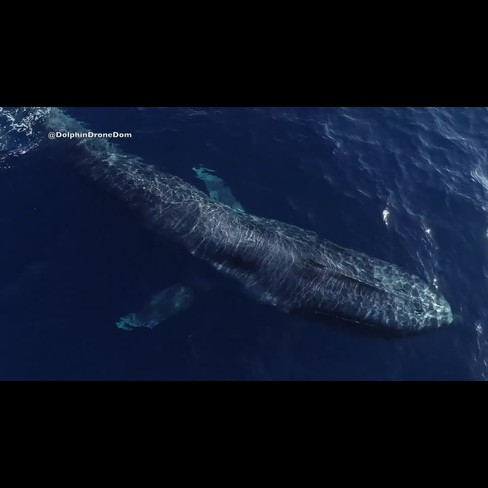bluewhale: (32, 104, 457, 348)
